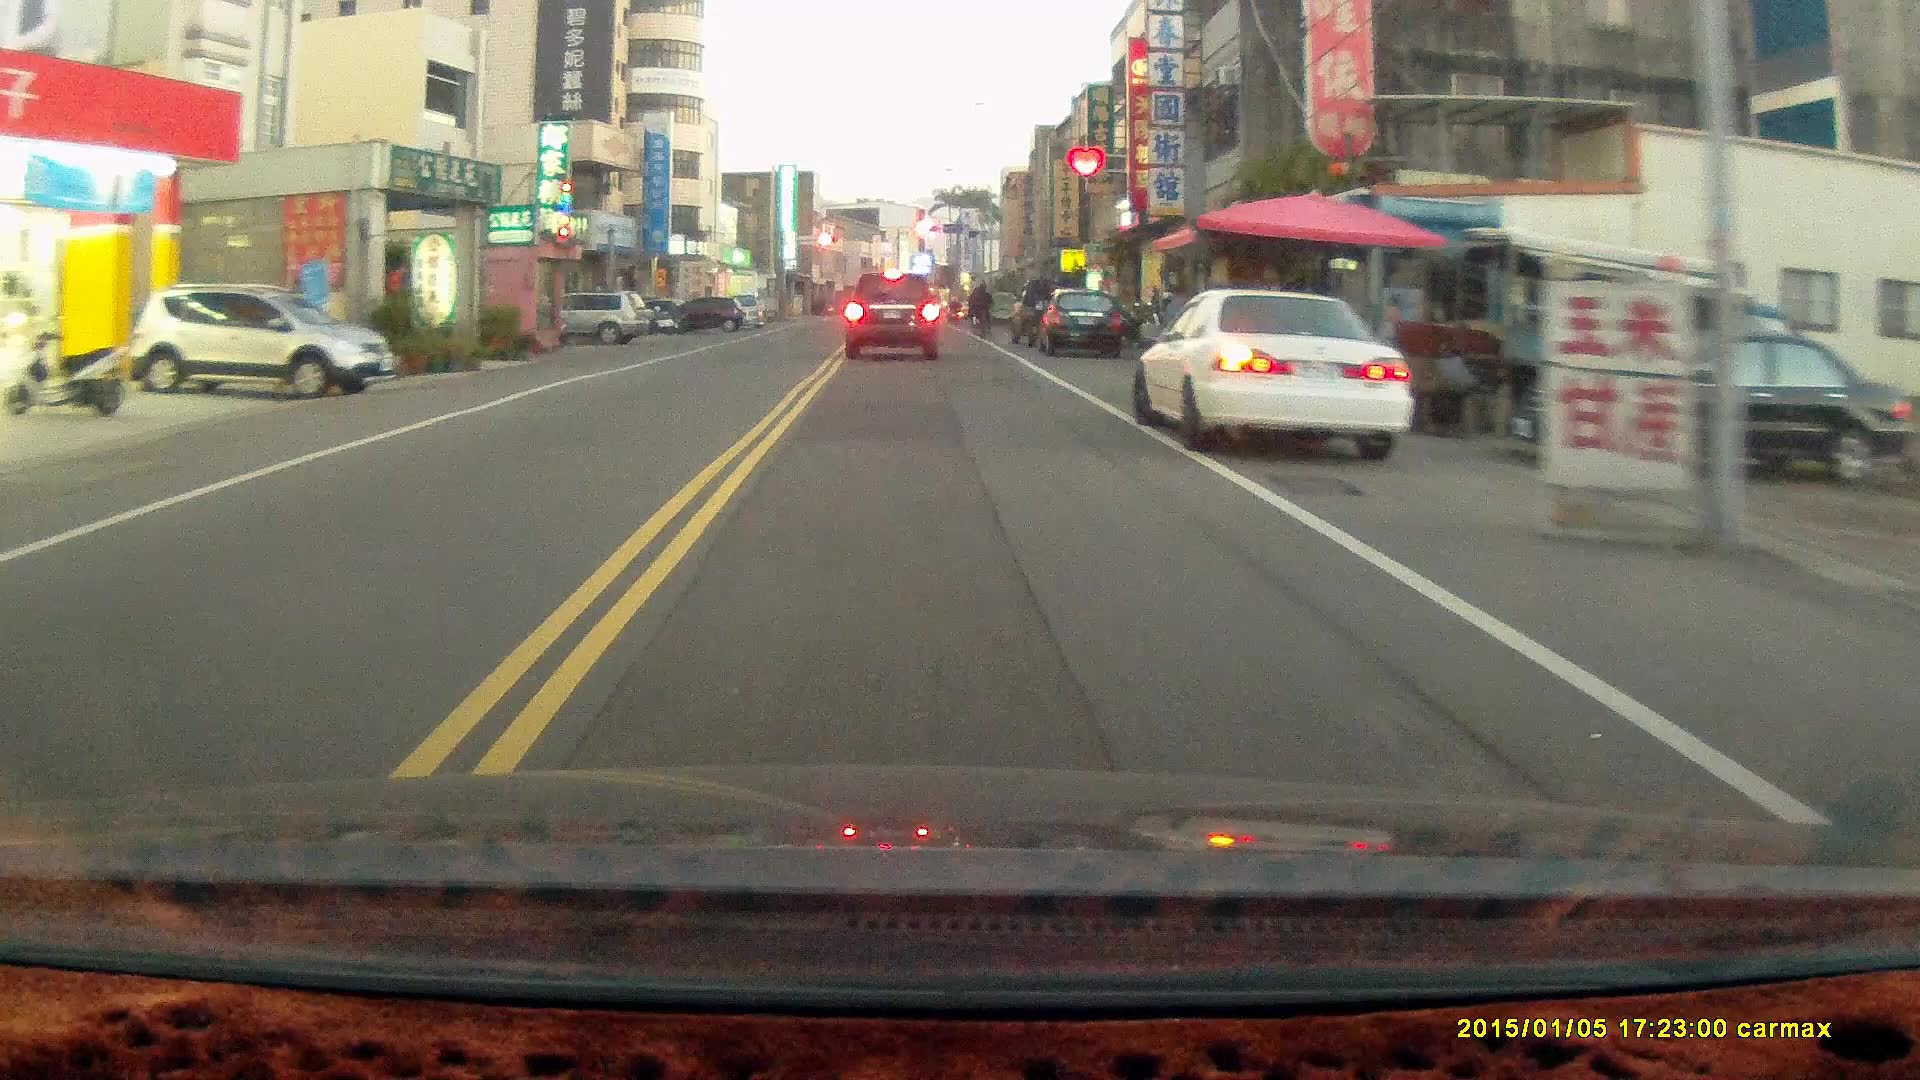rider: (968, 279, 994, 337)
vehicle: (1503, 320, 1912, 483), (1137, 285, 1413, 461), (136, 283, 387, 401), (844, 267, 942, 362), (1033, 289, 1128, 356), (555, 290, 655, 345)
